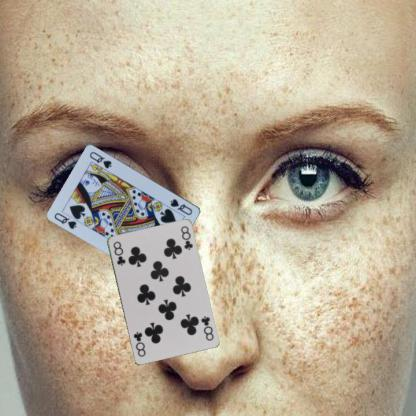8c: (198, 313, 214, 342), (110, 239, 126, 267)
Qs: (168, 196, 194, 216), (52, 210, 78, 230)
